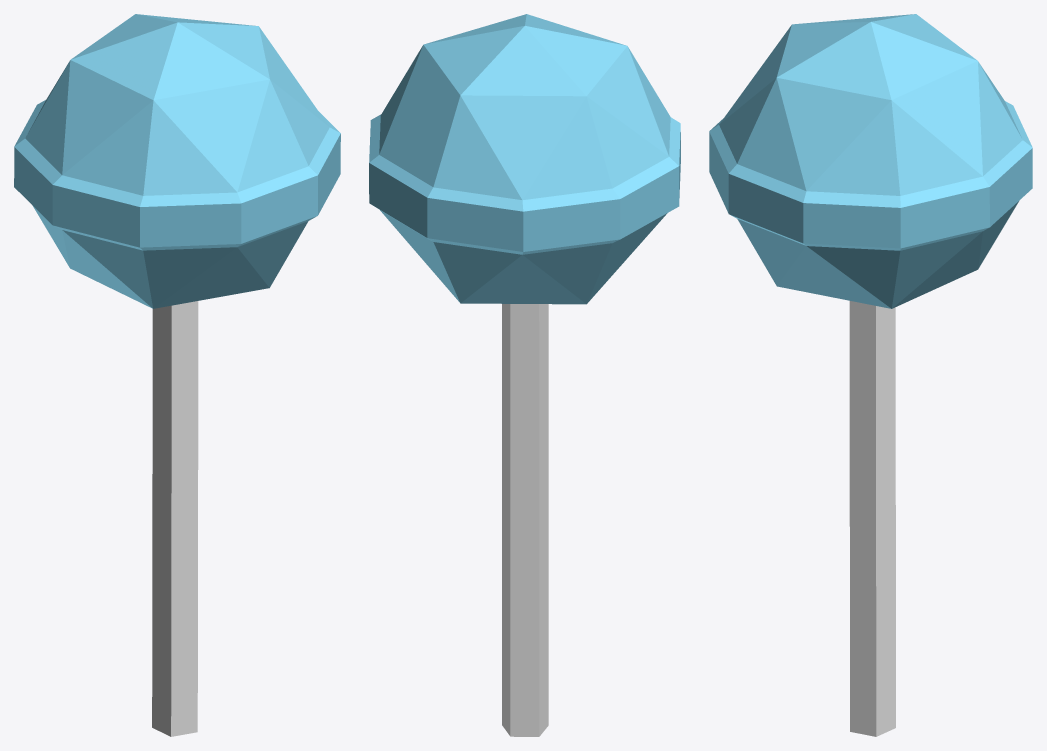
The model's file is lollipop_blue.fbx.
3 views of the same model, side by side, from view 1: azimuth 30°, elevation 25°; view 2: azimuth 150°, elevation 25°; view 3: azimuth 270°, elevation 25° (orthographic).
Visible parts, largest first — view 1: lollipop_blue; view 2: lollipop_blue; view 3: lollipop_blue.
Part boxes in pixels (x1,y1,x2,y2): lollipop_blue: (14, 14, 340, 736); lollipop_blue: (369, 14, 680, 736); lollipop_blue: (709, 14, 1032, 736).
Bounding box in the file's own units: 3.41 × 8.22 × 3.42.
